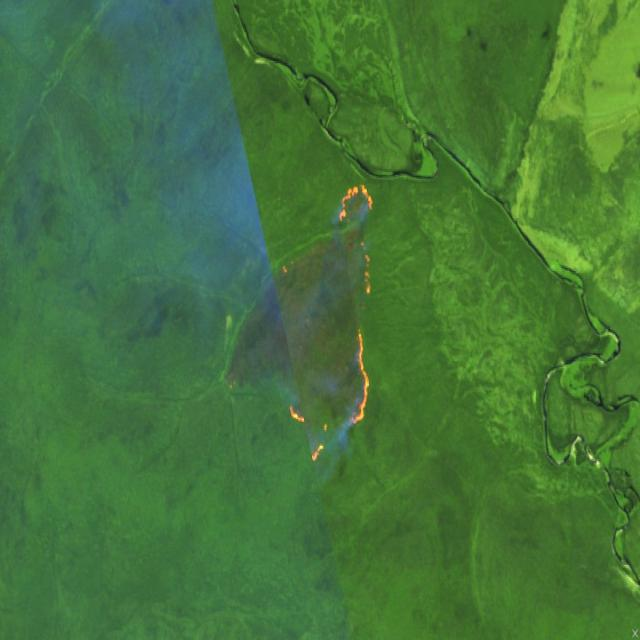fire: (278, 180, 384, 468)
